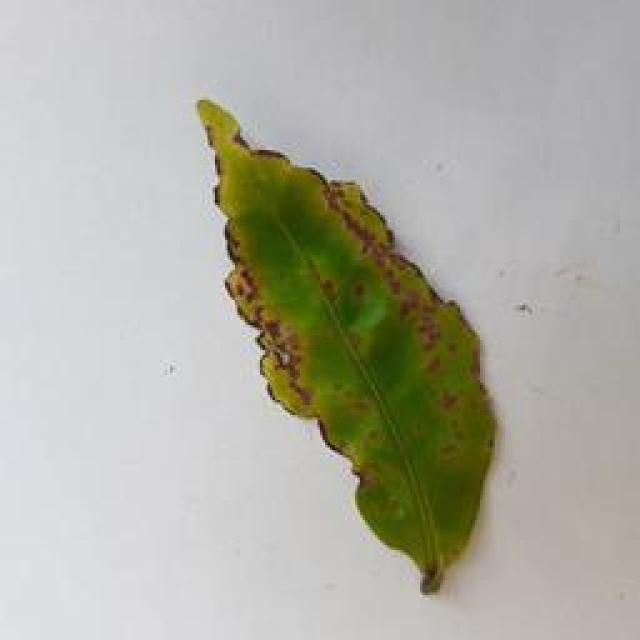Helopeltis: (191, 85, 512, 604)
